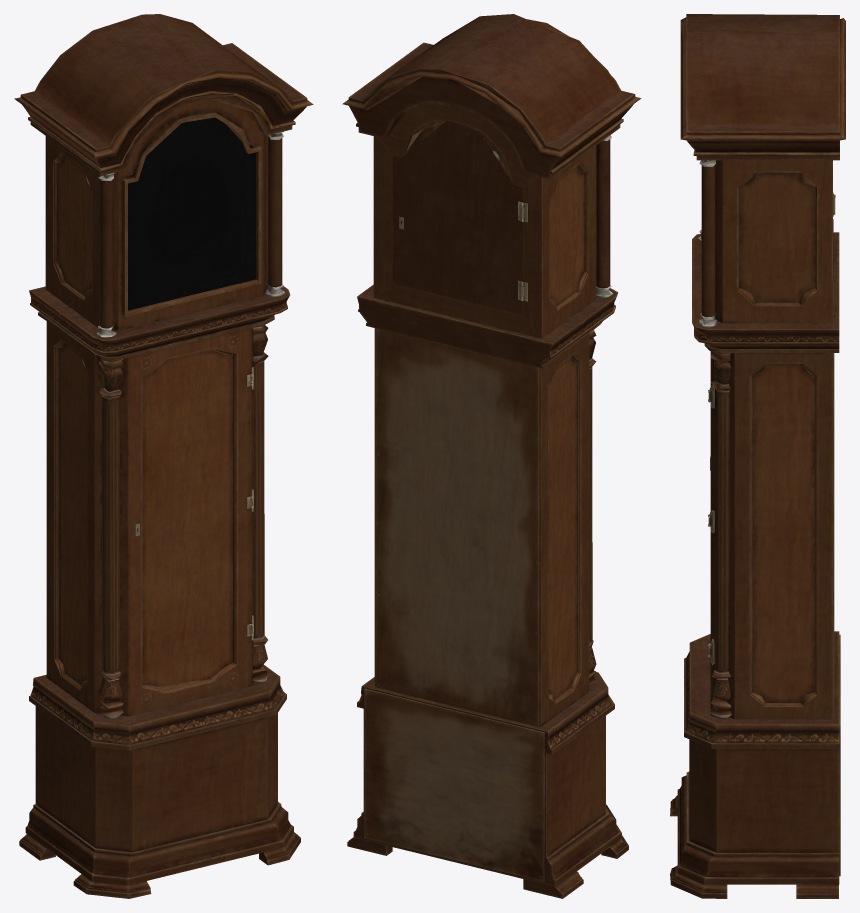
File: vintage_grandfather_clock_01_lod2.glb
3 renders of one model, left to right at view 1: azimuth 30°, elevation 25°; view 2: azimuth 150°, elevation 25°; view 3: azimuth 270°, elevation 25°, orthographic. The views are drawn at different scales.
Parts seen in each view (by area): view 1: vintage_grandfather_clock_01_body; view 2: vintage_grandfather_clock_01_body; view 3: vintage_grandfather_clock_01_body.
Part boxes in pixels (left/top/right/bottom): vintage_grandfather_clock_01_body: left=14, top=14, right=313, bottom=898; vintage_grandfather_clock_01_body: left=342, top=14, right=641, bottom=898; vintage_grandfather_clock_01_body: left=670, top=14, right=845, bottom=898.
Bounding box in the file's own units: 0.6256 × 2.19 × 0.4266.
Materials: 2 (2 with a texture image).
